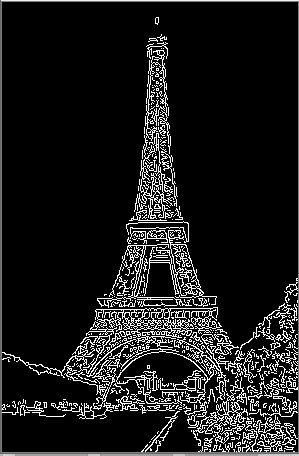eiffel tower: (76, 23, 240, 393)
